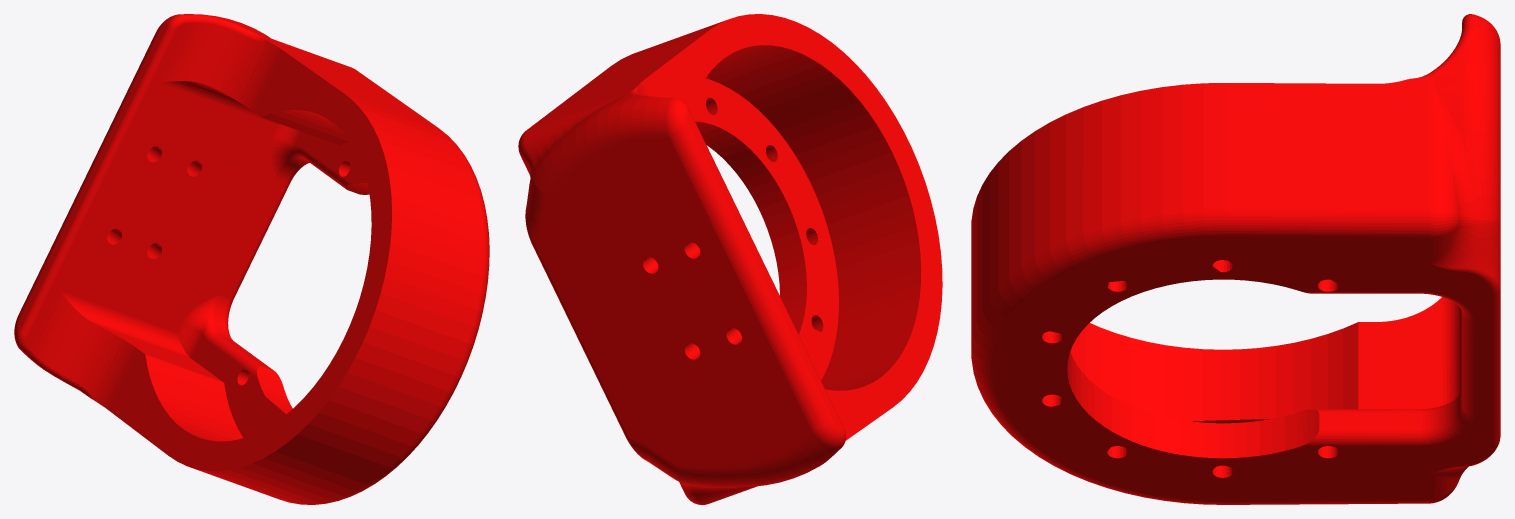
File: legs_1_right_leg_1_hip_rotate_1.glb
The picture shows the model from 3 angles, left to right: view 1: azimuth 30°, elevation 25°; view 2: azimuth 150°, elevation 25°; view 3: azimuth 270°, elevation 25°; orthographic projection. The views are drawn at different scales.
Parts seen in each view (by area): view 1: legs_1_right_leg_1_hip_rotate_1.obj; view 2: legs_1_right_leg_1_hip_rotate_1.obj; view 3: legs_1_right_leg_1_hip_rotate_1.obj.
Part boxes in pixels (<box>): legs_1_right_leg_1_hip_rotate_1.obj: <box>14,14,489,504</box>; legs_1_right_leg_1_hip_rotate_1.obj: <box>518,14,942,504</box>; legs_1_right_leg_1_hip_rotate_1.obj: <box>971,14,1500,504</box>.
Size of the model in its own units: 0.11 by 0.1277 by 0.1239.
